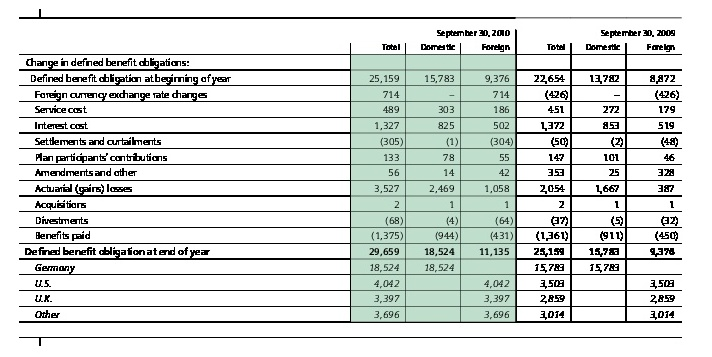table: (0, 0, 712, 357)
